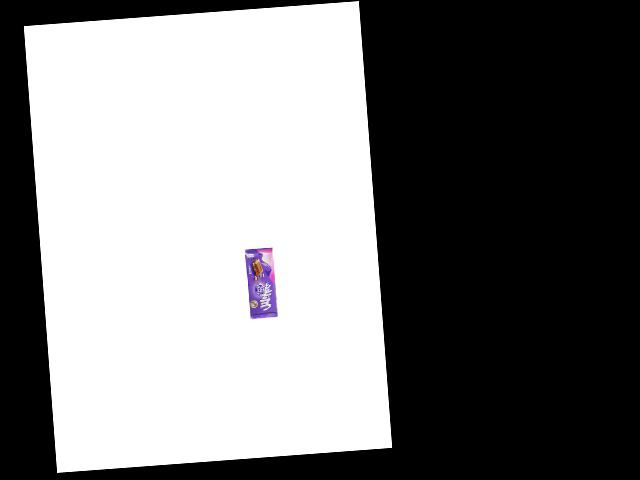chocolate: (243, 247, 278, 319)
